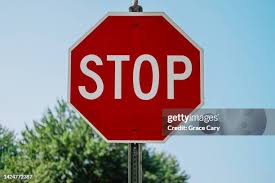stop sign: (69, 13, 202, 145)
